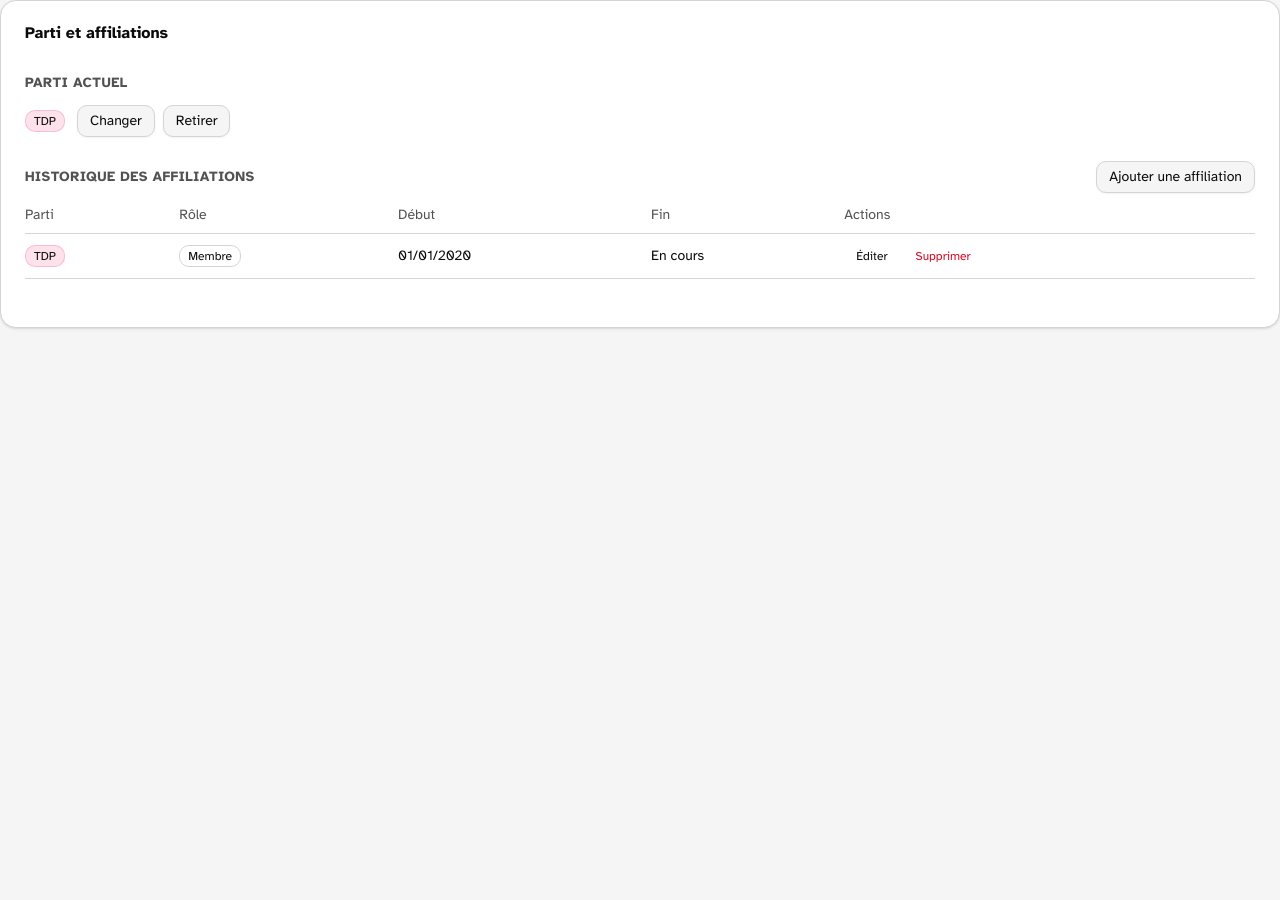
Test: EditablePartyCard — add affiliation form › shows the mode choice only when the end date is empty
This screenshot has width=1280, height=900.
Click the button "Ajouter une affiliation": {"x": 1176, "y": 177} [1096,161,1255,193]
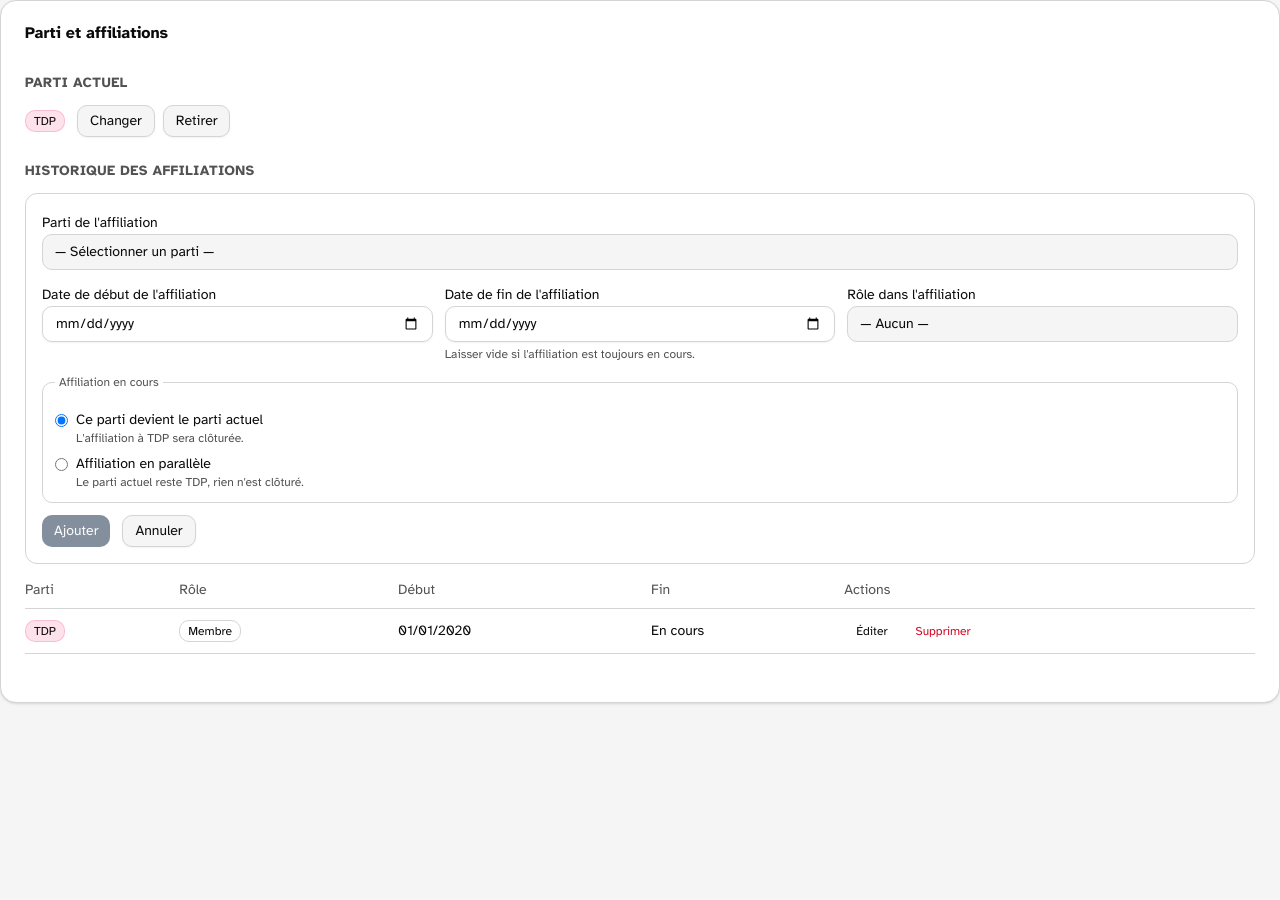
expect the radio button labelled "Ce parti devient" is shown: met, box [55,414,68,427]
In the date field labelled "Date de fin de l'affiliation": {"x": 640, "y": 324} [445,306,835,342], type "2018-01-01"
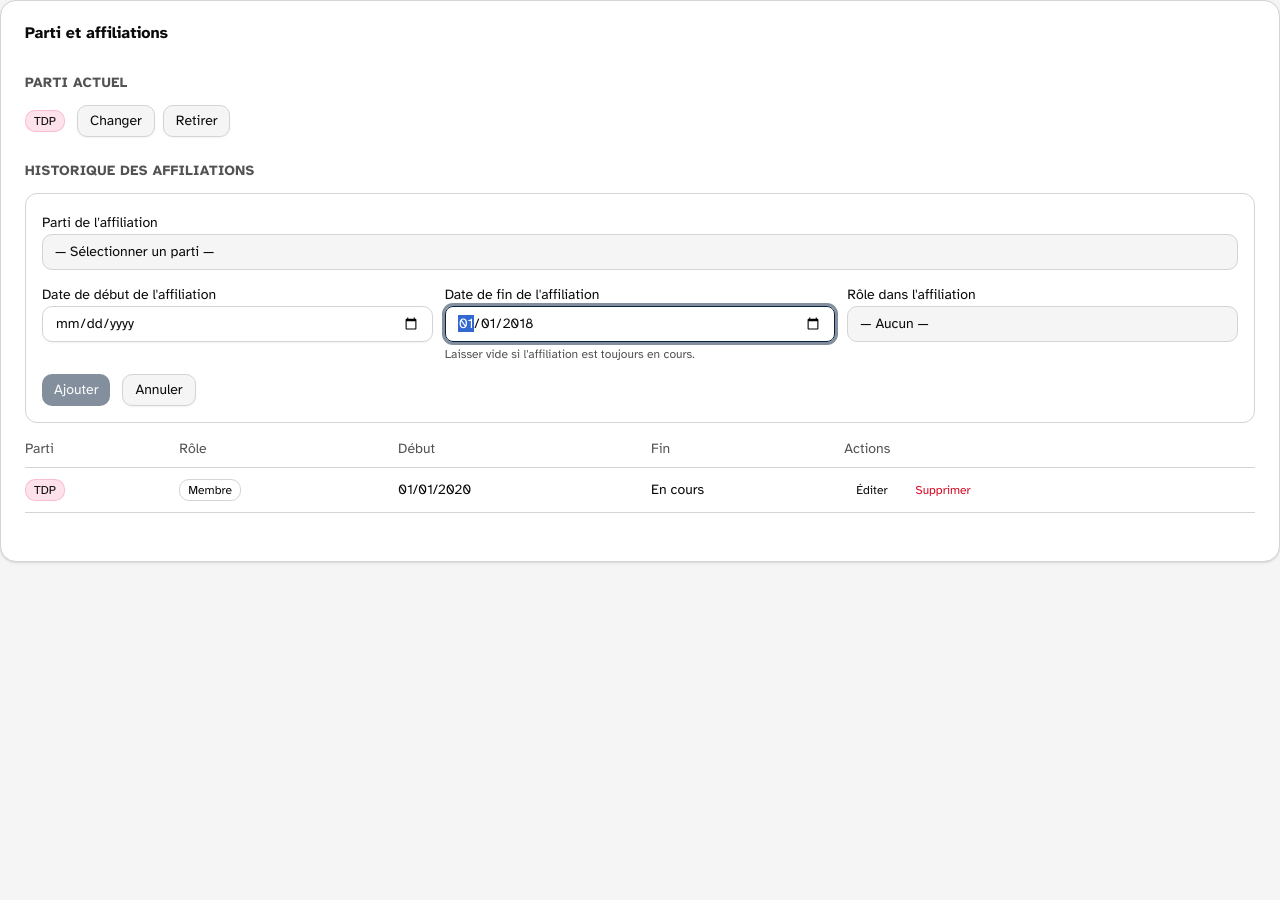
expect the radio button labelled "Ce parti devient" is gone: met
